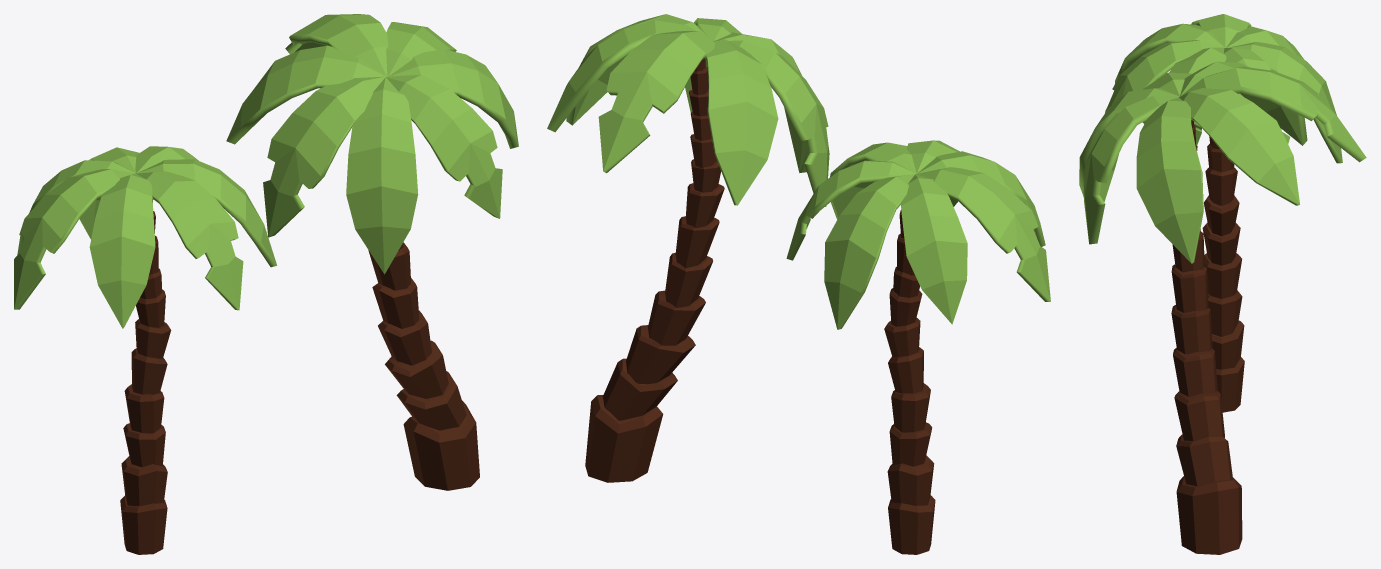
The model's file is TropicalTrees.fbx.
3 views of the same model, side by side, from view 1: azimuth 30°, elevation 25°; view 2: azimuth 150°, elevation 25°; view 3: azimuth 270°, elevation 25° (orthographic). The views are drawn at different scales.
Visible parts, largest first — view 1: Coconut_02, Coconut_01; view 2: Coconut_02, Coconut_01; view 3: Coconut_02, Coconut_01.
Part boxes in pixels (x1,y1,x2,y2): Coconut_02: (226,14,518,490); Coconut_01: (14,146,276,554); Coconut_02: (547,14,829,482); Coconut_01: (786,140,1050,554); Coconut_02: (1079,61,1366,554); Coconut_01: (1105,14,1342,412).
Bounding box in the file's own units: 73.38 × 65.76 × 39.07.
1 material, 1 textured.
